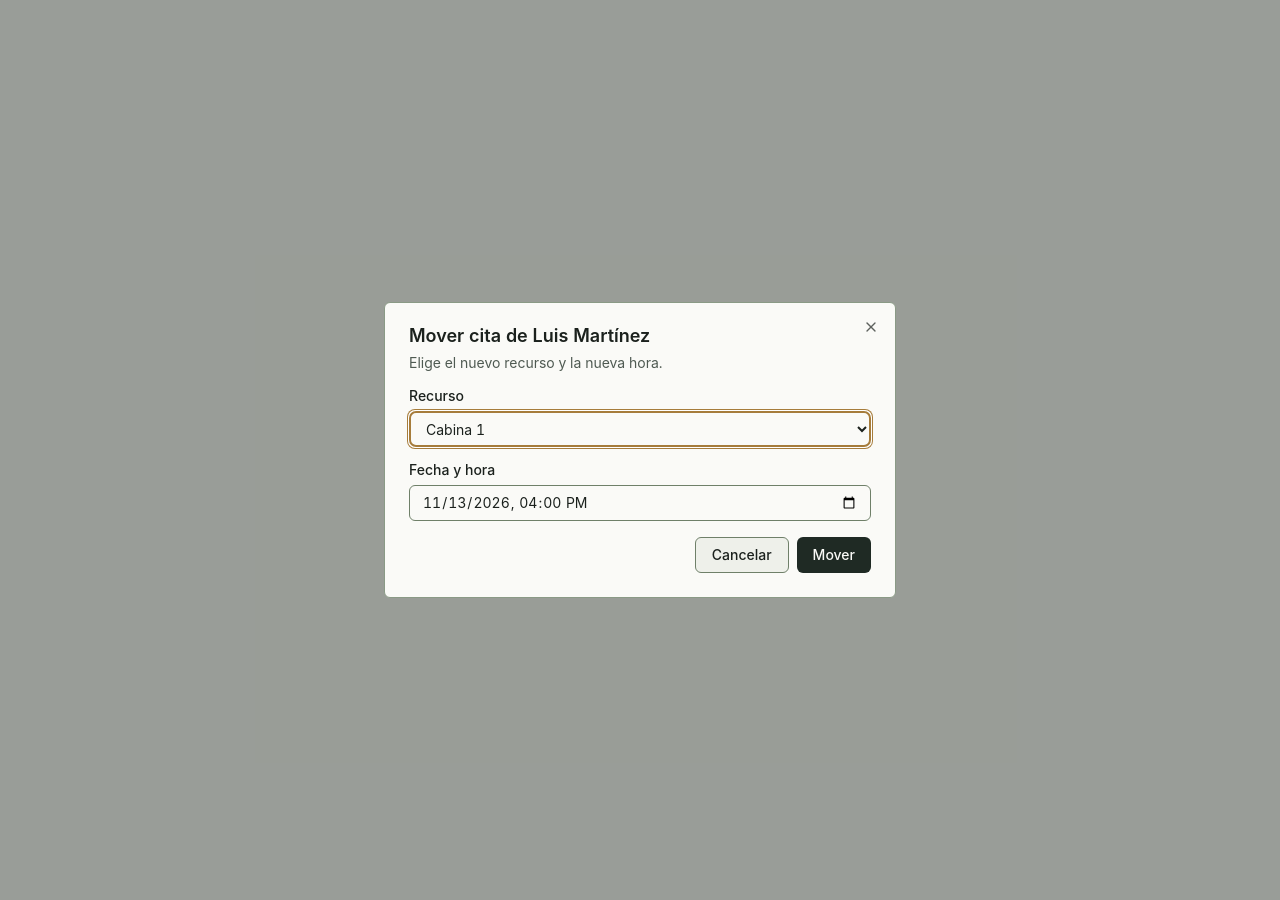
it: MoveDialog › muestra el solape sin cerrar el diálogo
Click the button "Mover" at (834, 555), box [797,537,871,573]
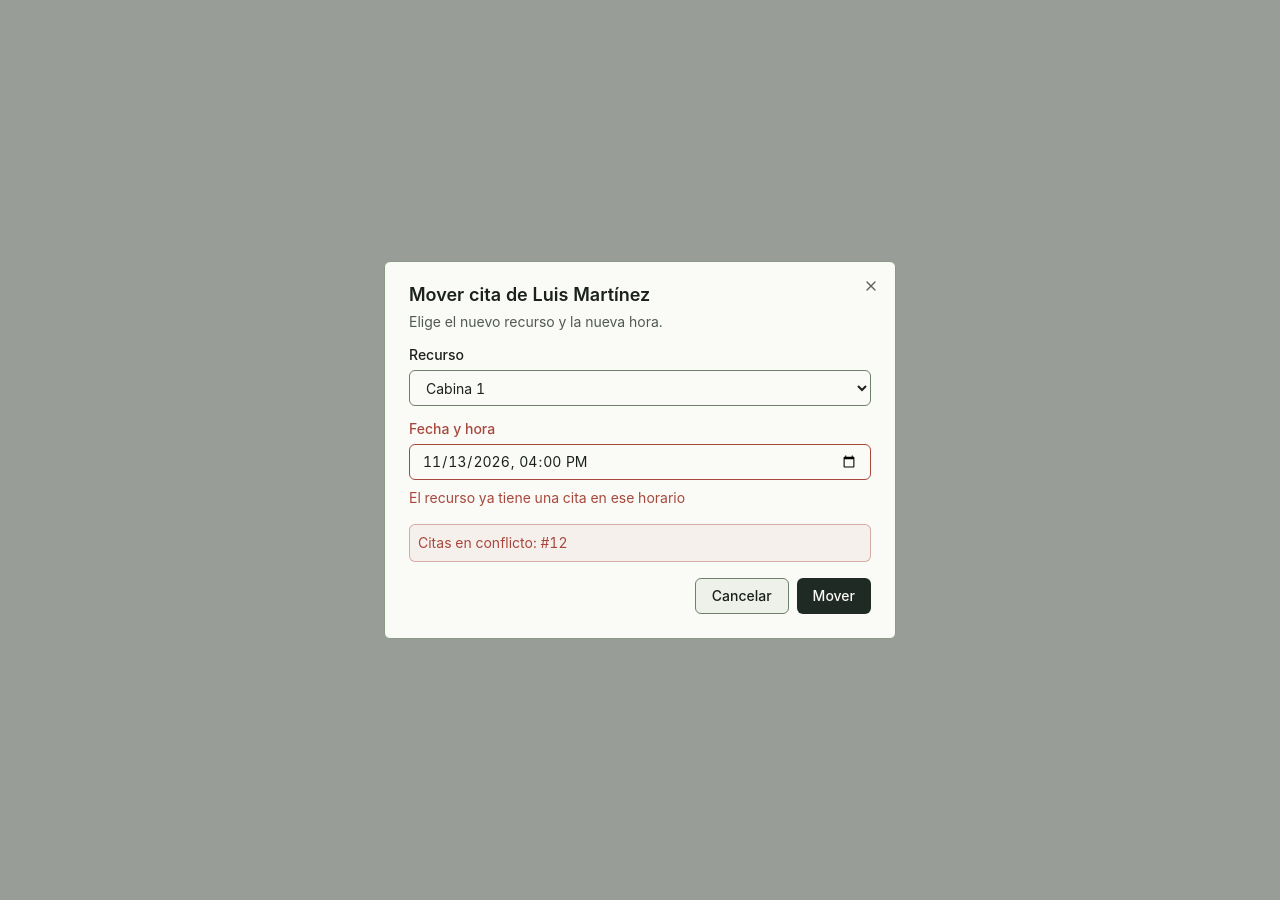
Result: the text "El recurso ya tiene una cita en ese horario" is shown at [409,489,685,506]
Result: the message reads "Citas en conflicto: #12" at [418,534,568,551]
